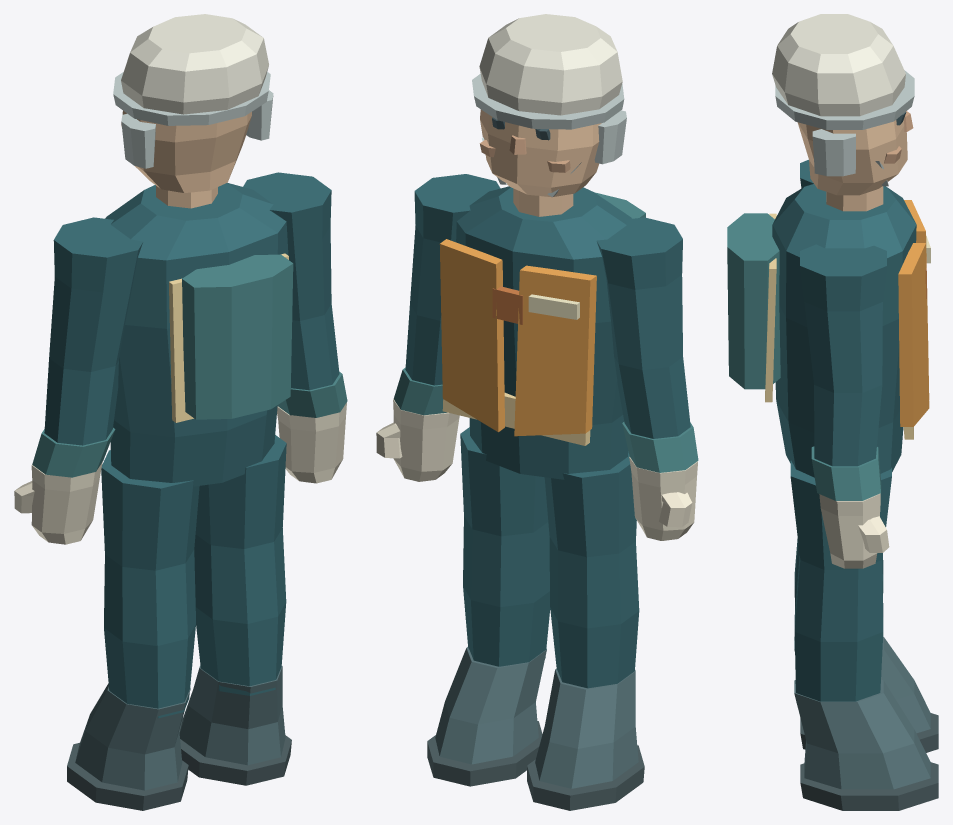
File: pilot.glb
3 views of the same model, side by side, from view 1: azimuth 30°, elevation 25°; view 2: azimuth 150°, elevation 25°; view 3: azimuth 270°, elevation 25° (orthographic). The views are drawn at different scales.
Parts seen in each view (by area): view 1: pilot-body, pilot-pants-L, pilot-pants-R, pilot-radio-backpack, pilot-sleeve-L, pilot-helmet-shell, pilot-sleeve-R, pilot-boot-L, pilot-boot-R, pilot-head, pilot-glove-L, pilot-glove-R (+9 smaller); view 2: pilot-body, pilot-pants-L, pilot-pants-R, pilot-sleeve-L, pilot-vest-left, pilot-helmet-shell, pilot-vest-right, pilot-boot-L, pilot-boot-R, pilot-sleeve-R, pilot-head, pilot-glove-R (+13 smaller); view 3: pilot-body, pilot-sleeve-R, pilot-pants-R, pilot-helmet-shell, pilot-boot-R, pilot-radio-backpack, pilot-vest-right, pilot-head, pilot-sole-R, pilot-glove-R, pilot-cuff-R, pilot-helmet-brim (+7 smaller).
Part boxes in pixels (<box>): pilot-body: <box>105,183,288,486</box>; pilot-pants-L: <box>101,450,199,718</box>; pilot-pants-R: <box>194,435,286,695</box>; pilot-radio-backpack: <box>182,254,293,419</box>; pilot-sleeve-L: <box>44,217,142,445</box>; pilot-helmet-shell: <box>121,14,268,114</box>; pilot-sleeve-R: <box>243,172,339,390</box>; pilot-boot-L: <box>75,683,190,790</box>; pilot-boot-R: <box>179,665,285,765</box>; pilot-head: <box>121,110,251,192</box>; pilot-glove-L: <box>31,462,102,544</box>; pilot-glove-R: <box>277,402,346,483</box>; pilot-body: <box>456,186,631,479</box>; pilot-pants-L: <box>544,451,639,688</box>; pilot-pants-R: <box>460,427,550,666</box>; pilot-sleeve-L: <box>596,217,690,438</box>; pilot-vest-left: <box>514,265,596,436</box>; pilot-helmet-shell: <box>479,14,622,115</box>; pilot-vest-right: <box>439,239,504,432</box>; pilot-boot-L: <box>535,668,638,788</box>; pilot-boot-R: <box>435,647,546,764</box>; pilot-sleeve-R: <box>405,174,500,385</box>; pilot-head: <box>480,109,601,197</box>; pilot-glove-R: <box>393,399,459,481</box>; pilot-body: <box>772,184,916,477</box>; pilot-sleeve-R: <box>800,244,886,466</box>; pilot-pants-R: <box>790,460,891,701</box>; pilot-helmet-shell: <box>772,14,905,116</box>; pilot-boot-R: <box>794,679,930,789</box>; pilot-radio-backpack: <box>727,213,780,389</box>; pilot-vest-right: <box>898,243,929,426</box>; pilot-head: <box>797,120,907,195</box>; pilot-sole-R: <box>800,762,938,810</box>; pilot-glove-R: <box>819,493,880,568</box>; pilot-cuff-R: <box>811,446,881,500</box>; pilot-helmet-brim: <box>775,70,914,129</box>.
Bounding box in the file's own units: 0.7794 × 1.75 × 0.4578.
